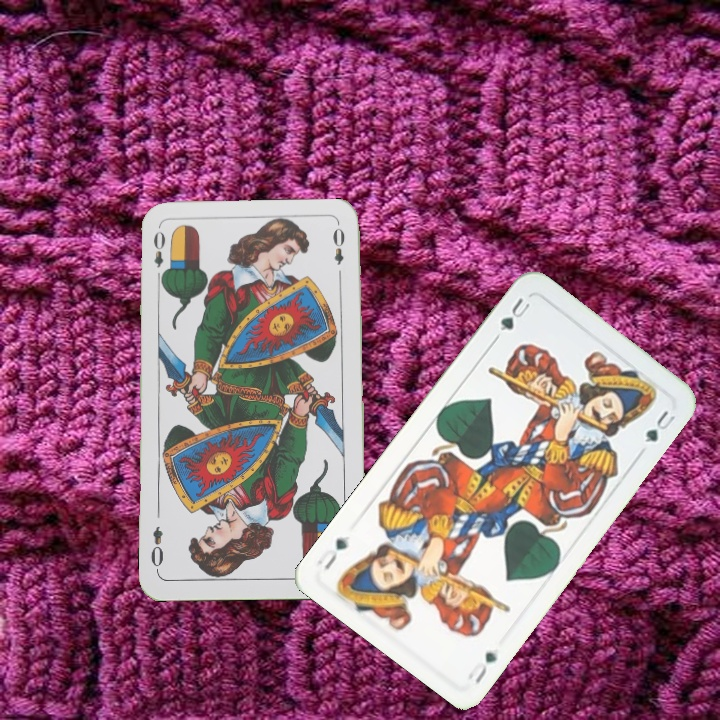EO: (150, 227, 169, 285)
GU: (496, 293, 533, 334), (464, 647, 500, 687)
